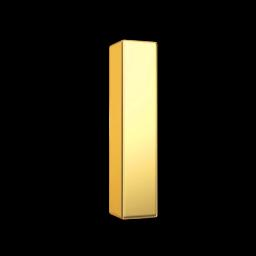i: (84, 29, 190, 227)
